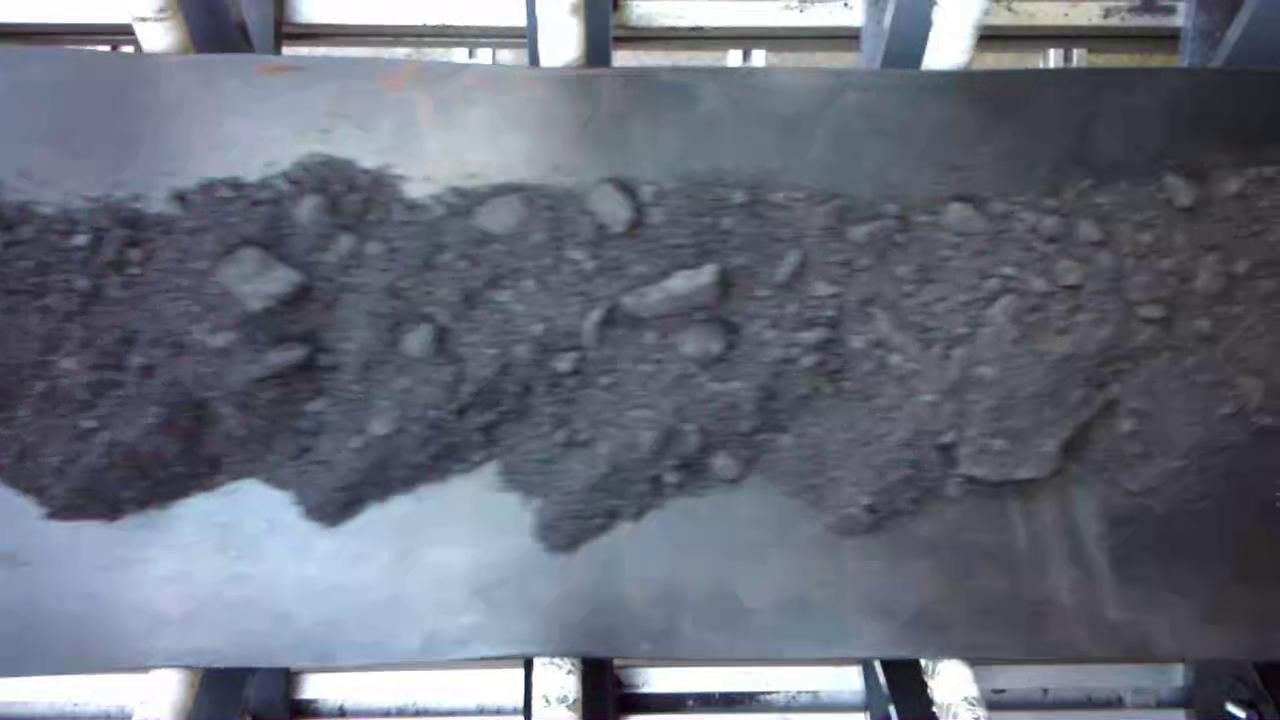conveyor: (0, 69, 1279, 661)
